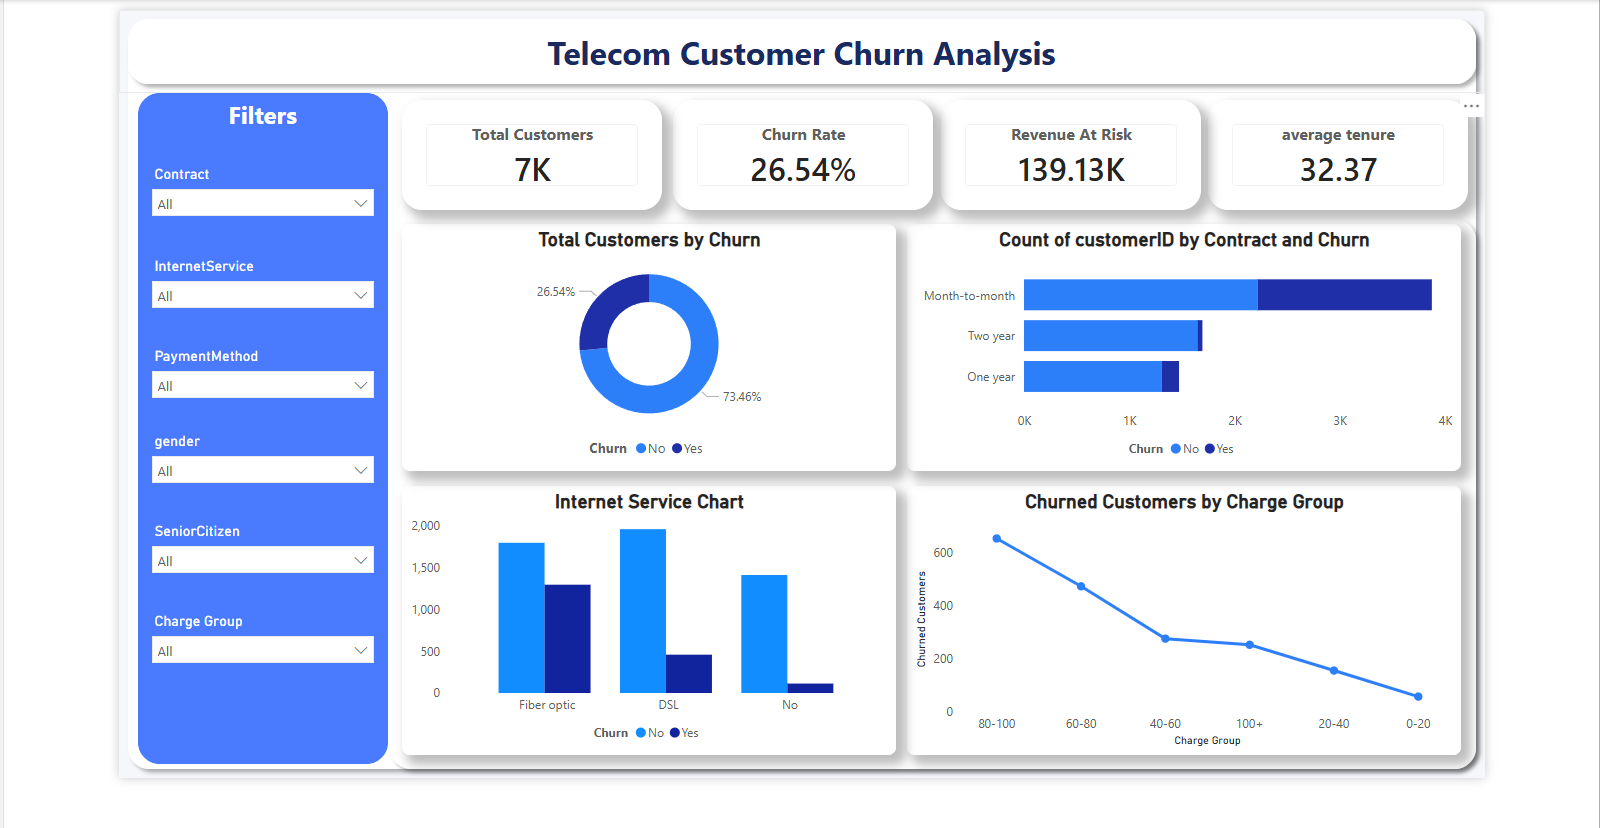

Layout of this report page (visuals, bound fields, positions):
{"tool":"powerbi","page":{"name":"Page 1","canvas":[1366,768],"ordinal":0},"visuals":[{"type":"shape","title":"background","box":[0,0,1366,768.4],"z":1500},{"type":"shape","title":"chart bg","box":[262.1,200.2,1103.9,568.2],"z":1750},{"type":"shape","title":"slicer bg","box":[18.9,82.8,250.6,670.9],"z":5375},{"type":"lineChart","title":"Churned Customers by Charge Group","fields":{"Y":["mesursea.Churned Customers"],"Category":["WA_Fn-UseC_-Telco-Customer-Churn.Charge Group"]},"box":[788.4,476,553.5,269.4],"z":9000},{"type":"clusteredColumnChart","title":"Internet Service Chart","fields":{"Category":["WA_Fn-UseC_-Telco-Customer-Churn.InternetService"],"Y":["CountNonNull(WA_Fn-UseC_-Telco-Customer-Churn.customerID)"],"Series":["WA_Fn-UseC_-Telco-Customer-Churn.Churn"]},"box":[283.1,476,493.8,269.4],"z":9007},{"type":"barChart","fields":{"Series":["WA_Fn-UseC_-Telco-Customer-Churn.Churn"],"Category":["WA_Fn-UseC_-Telco-Customer-Churn.Contract"],"Y":["CountNonNull(WA_Fn-UseC_-Telco-Customer-Churn.customerID)"]},"box":[788.4,213.9,553.5,247.4],"z":9015},{"type":"donutChart","title":"Total Customers by Churn","fields":{"Y":["mesursea.Total Customers"],"Category":["WA_Fn-UseC_-Telco-Customer-Churn.Churn"]},"box":[283.1,213.9,493.8,247.4],"z":9031},{"type":"cardVisual","title":"avr tenure","fields":{"Data":["mesursea.average tenure"]},"box":[1089.2,90.2,260,110],"z":9062},{"type":"cardVisual","title":"revenue at risk","fields":{"Data":["mesursea.Revenue At Risk"]},"box":[821.9,90.2,260,110.1],"z":9125},{"type":"cardVisual","title":"churn rate","fields":{"Data":["mesursea.Churn Rate"]},"box":[553.5,90.2,260,110.1],"z":9250},{"type":"cardVisual","title":"total custoemr","fields":{"Data":["mesursea.Total Customers"]},"box":[283.1,90.2,260,110.1],"z":9500},{"type":"slicer","title":"internet slicer","fields":{"Values":["WA_Fn-UseC_-Telco-Customer-Churn.InternetService"]},"box":[18.6,238.6,250,90],"z":12000},{"type":"slicer","title":"ayment method slicer","fields":{"Values":["WA_Fn-UseC_-Telco-Customer-Churn.PaymentMethod"]},"box":[18.6,328.6,250,90],"z":13000},{"type":"slicer","title":"gender slicer","fields":{"Values":["WA_Fn-UseC_-Telco-Customer-Churn.gender"]},"box":[18.6,414.3,250,90],"z":14000},{"type":"slicer","title":"senior citizen slizer","fields":{"Values":["WA_Fn-UseC_-Telco-Customer-Churn.SeniorCitizen"]},"box":[18.6,504.3,250,90],"z":15000},{"type":"slicer","title":"charge group slicer","fields":{"Values":["WA_Fn-UseC_-Telco-Customer-Churn.Charge Group"]},"box":[18.6,594.3,250,90],"z":16000},{"type":"slicer","title":"contract slicer","fields":{"Values":["WA_Fn-UseC_-Telco-Customer-Churn.Contract"]},"box":[18.6,147.1,250,91.4],"z":17000},{"type":"shape","title":"header","box":[0,0,1366,82.8],"z":17500}]}

Visuals, with their boxes on the page's 1366x768 design canvas (x1, y1, x2, y2). These are canvas units, not pixel positions in the 1600x828 screenshot, which may show the page scaled, cropped or inside an application window:
"background" shape: box(0, 0, 1366, 768)
"chart bg" shape: box(262, 200, 1366, 768)
"slicer bg" shape: box(19, 83, 270, 754)
"Churned Customers by Charge Group" lineChart: box(788, 476, 1342, 745)
"Internet Service Chart" clusteredColumnChart: box(283, 476, 777, 745)
barChart - WA_Fn-UseC_-Telco-Customer-Churn.Churn x WA_Fn-UseC_-Telco-Customer-Churn.Contract: box(788, 214, 1342, 461)
"Total Customers by Churn" donutChart: box(283, 214, 777, 461)
"avr tenure" cardVisual: box(1089, 90, 1349, 200)
"revenue at risk" cardVisual: box(822, 90, 1082, 200)
"churn rate" cardVisual: box(554, 90, 814, 200)
"total custoemr" cardVisual: box(283, 90, 543, 200)
"internet slicer" slicer: box(19, 239, 269, 329)
"ayment method slicer" slicer: box(19, 329, 269, 419)
"gender slicer" slicer: box(19, 414, 269, 504)
"senior citizen slizer" slicer: box(19, 504, 269, 594)
"charge group slicer" slicer: box(19, 594, 269, 684)
"contract slicer" slicer: box(19, 147, 269, 238)
"header" shape: box(0, 0, 1366, 83)
